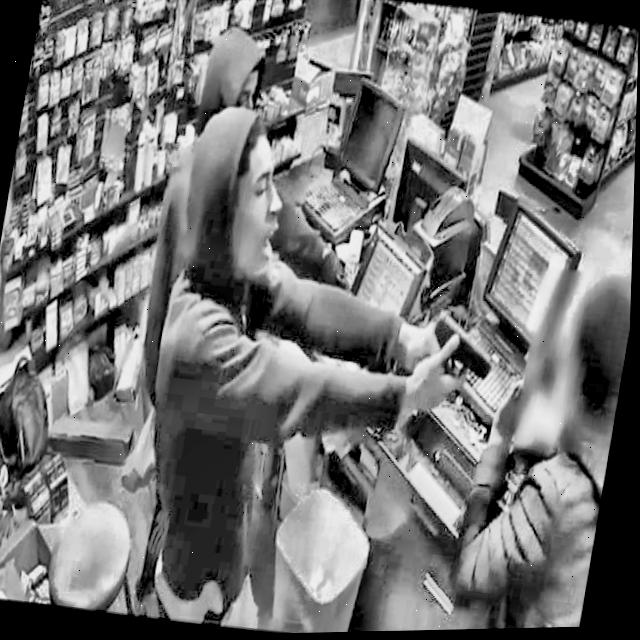robbery: (117, 26, 631, 632)
